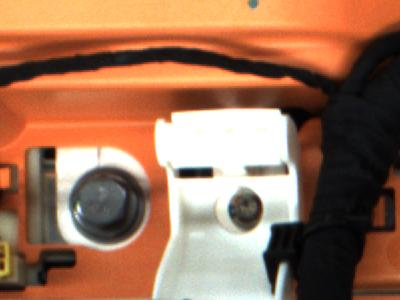nut_b: (59, 158, 151, 250)
